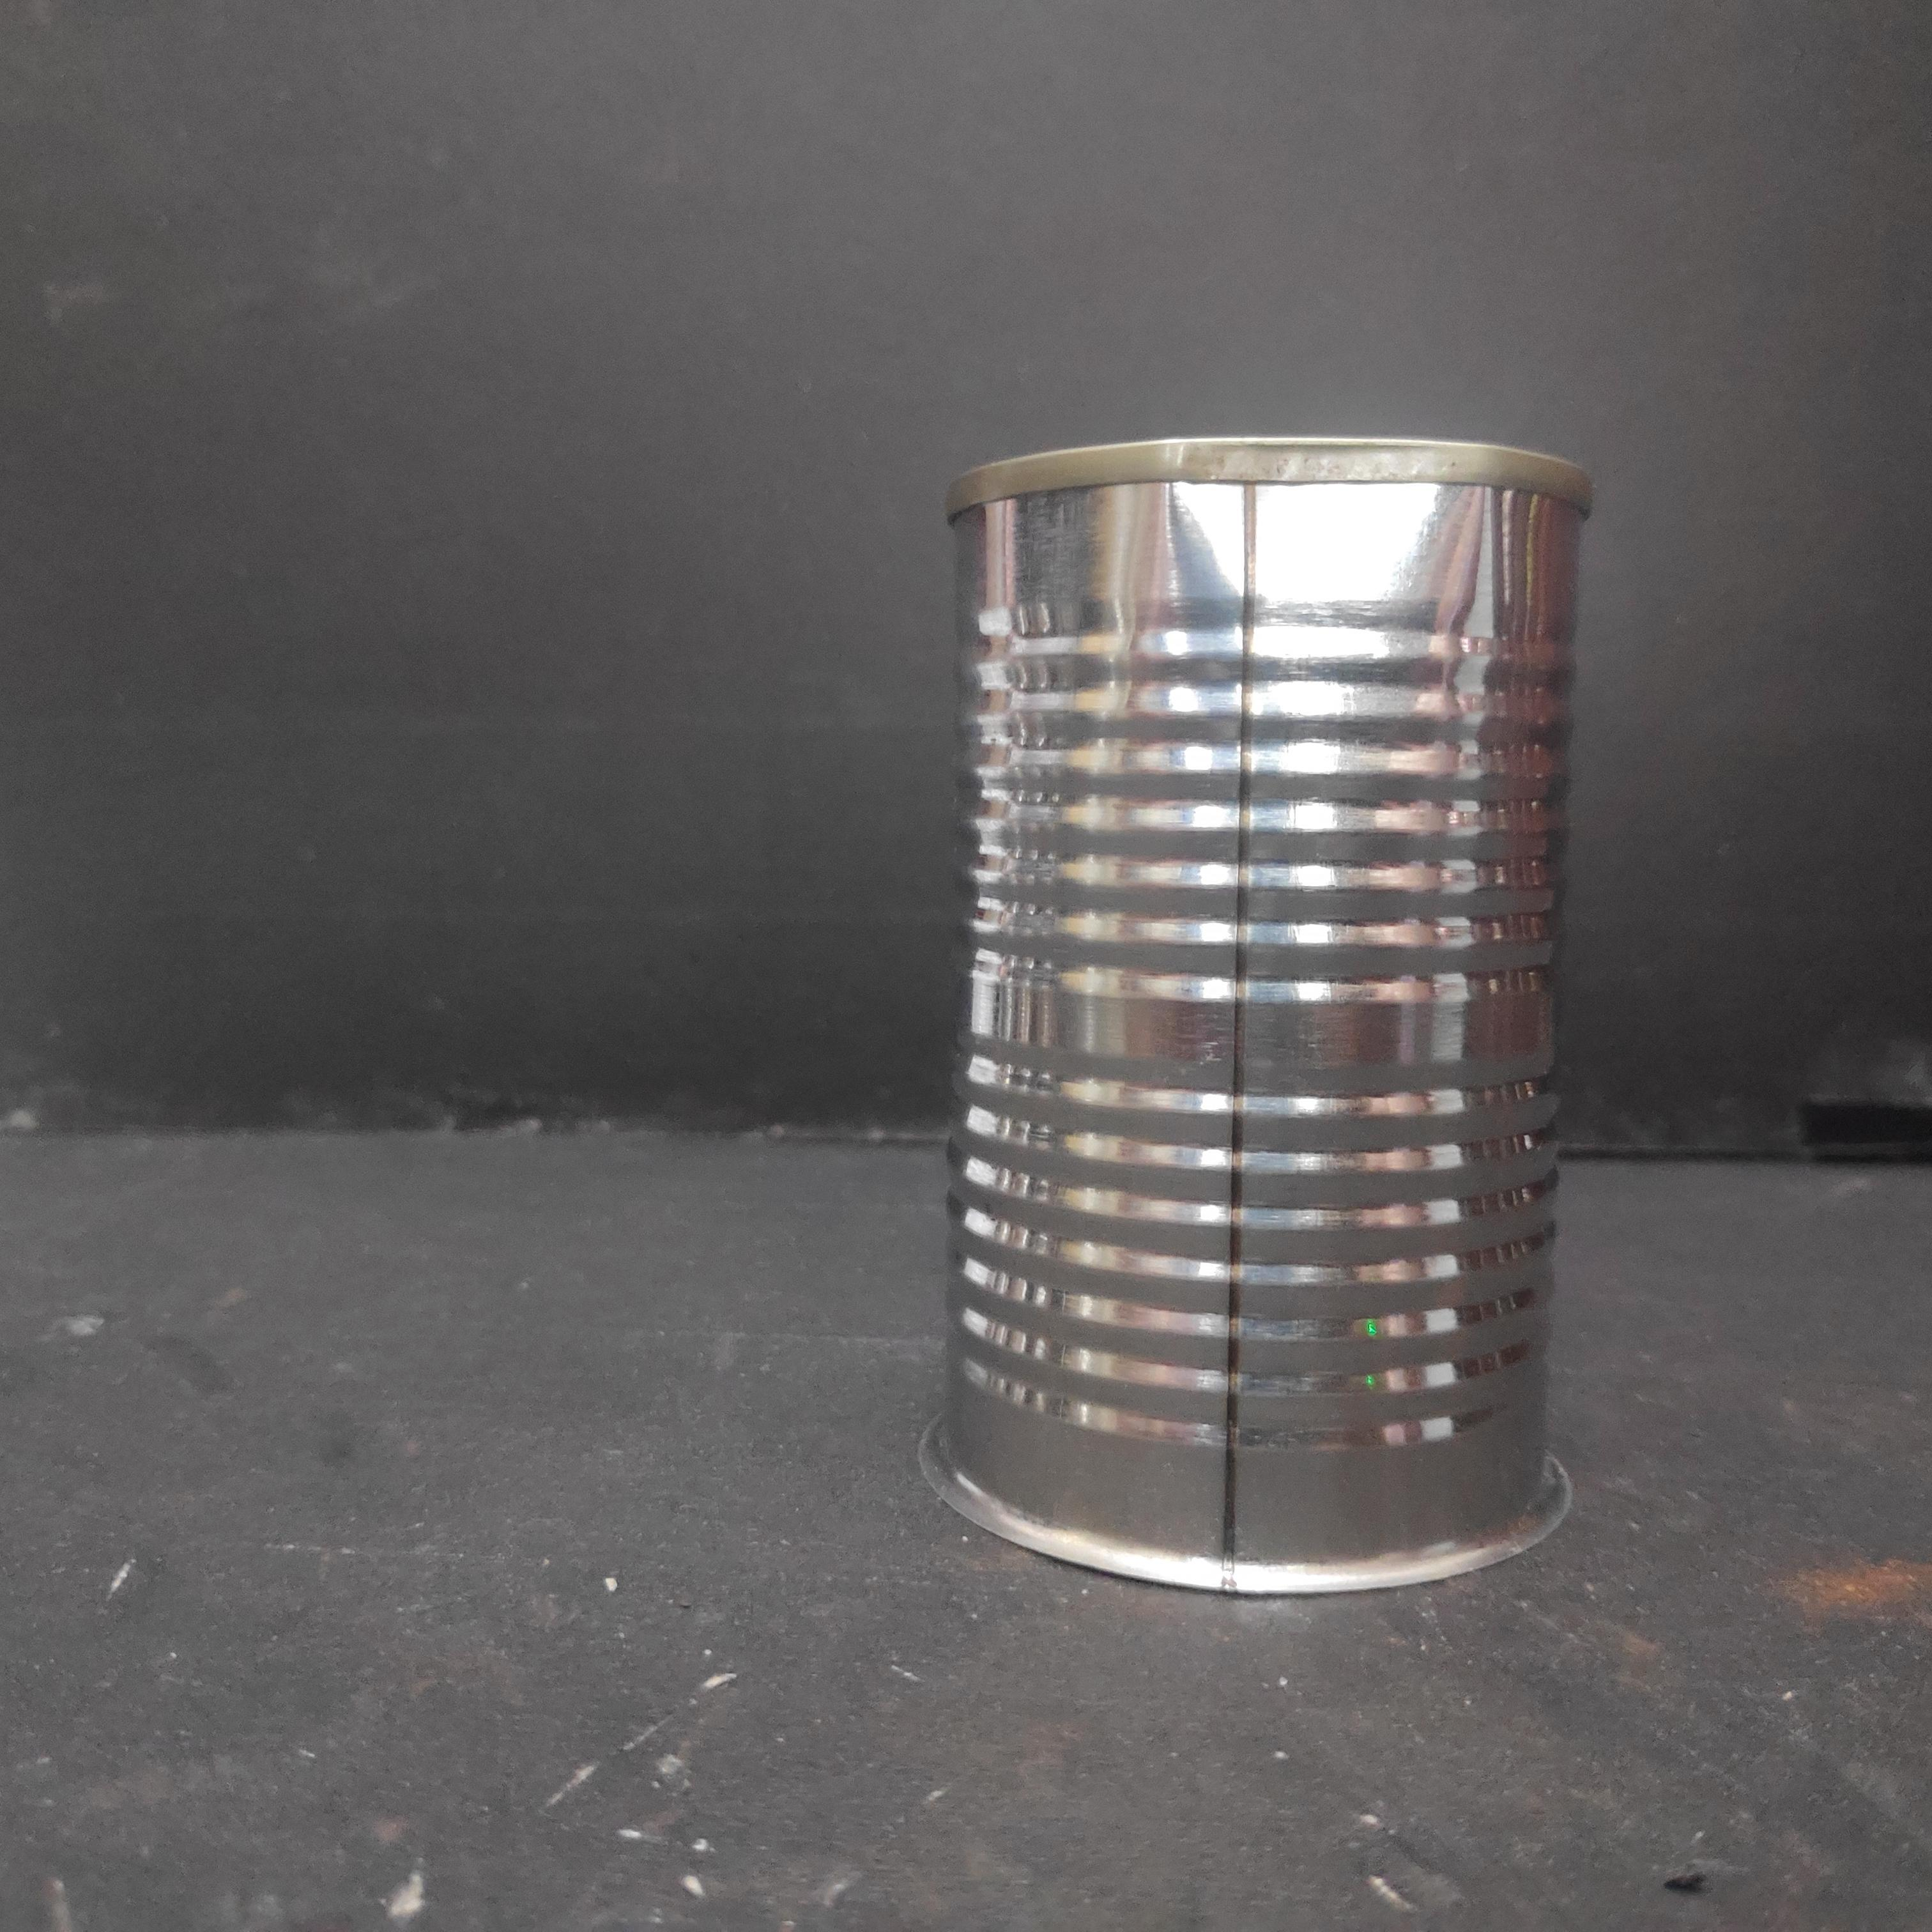Minor Defect: (934, 426, 1603, 1596)
